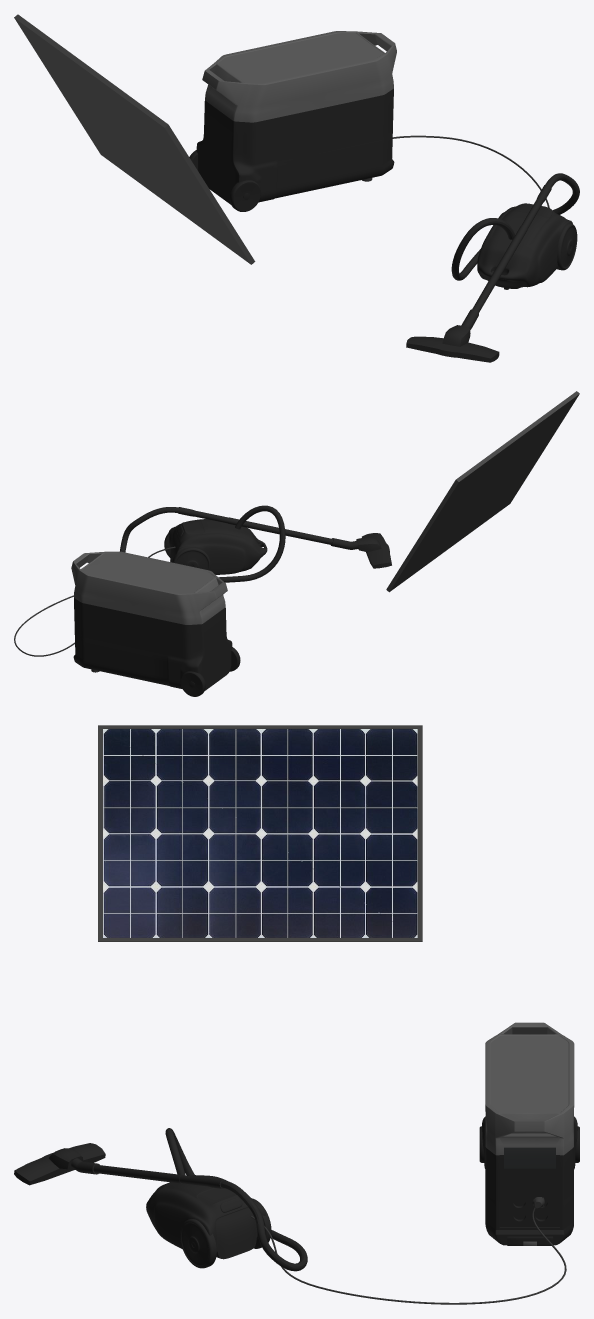
The model's file is BatteryPowerPRO.fbx.
3 renders of one model, top to bottom at view 1: azimuth 30°, elevation 25°; view 2: azimuth 150°, elevation 25°; view 3: azimuth 270°, elevation 25°, orthographic. The views are drawn at different scales.
Parts seen in each view (by area): view 1: DeltaPro.Demo, Solpanel.Demo, Damsugare.Demo; view 2: DeltaPro.Demo, Solpanel.Demo, Damsugare.Demo; view 3: Solpanel.Demo, DeltaPro.Demo, Damsugare.Demo.
Boxes of the visible parts, bbox=[...] form: DeltaPro.Demo: bbox=[189, 31, 396, 211]; Solpanel.Demo: bbox=[14, 14, 255, 264]; Damsugare.Demo: bbox=[392, 135, 579, 362]; DeltaPro.Demo: bbox=[71, 551, 240, 696]; Solpanel.Demo: bbox=[386, 391, 579, 592]; Damsugare.Demo: bbox=[14, 505, 391, 656]; Solpanel.Demo: bbox=[98, 725, 422, 941]; DeltaPro.Demo: bbox=[479, 1022, 579, 1245]; Damsugare.Demo: bbox=[14, 1128, 566, 1304].
Bounding box in the file's own units: 180 × 95.47 × 158.
10 materials, 3 textured.
